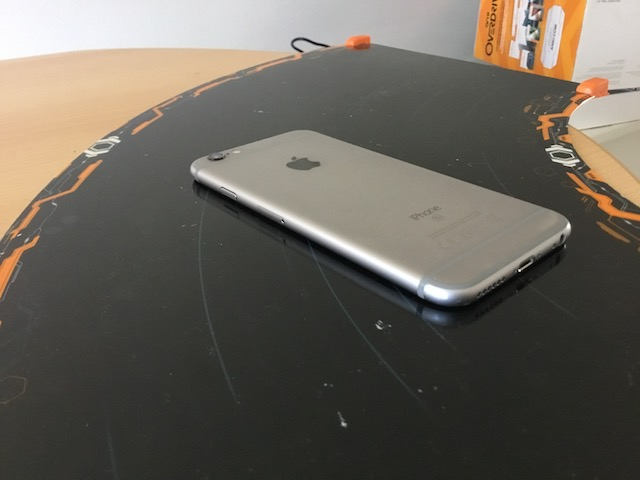phone: (186, 125, 576, 314)
